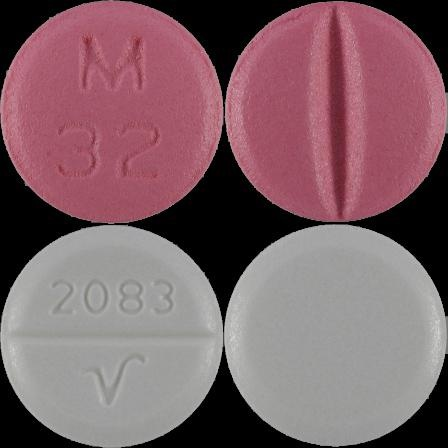67544-911: (0, 0, 224, 224)
